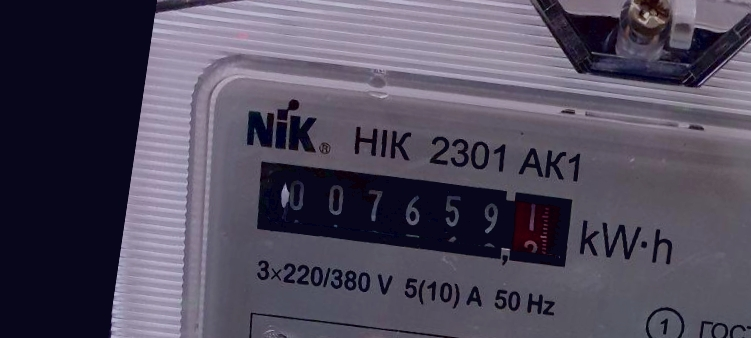0: (322, 180, 350, 220), (283, 174, 309, 216)
1: (521, 197, 542, 235)
5: (439, 191, 464, 230)
6: (399, 190, 426, 229)
7: (359, 184, 385, 225)
9: (476, 198, 503, 238)
screen: (241, 147, 584, 283)
